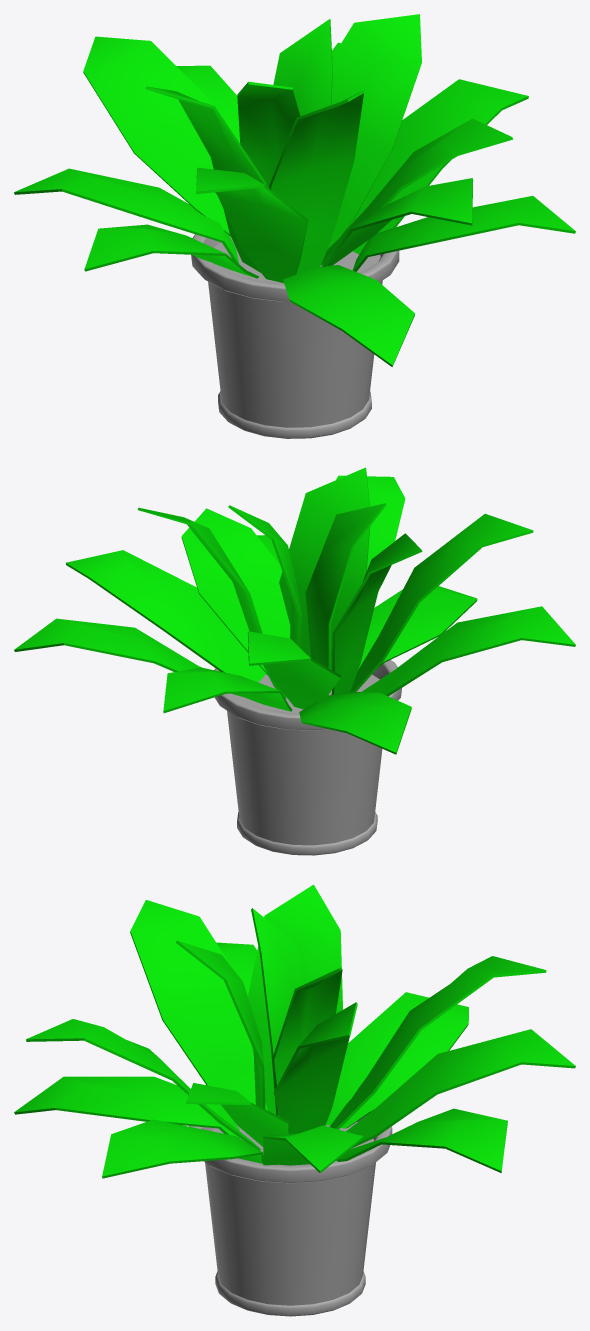
File: pot_plant_1.fbx
3 views of the same model, one above another, from view 1: azimuth 30°, elevation 25°; view 2: azimuth 150°, elevation 25°; view 3: azimuth 270°, elevation 25° (orthographic). The views are drawn at different scales.
Parts seen in each view (by area): view 1: pot_plant; view 2: pot_plant; view 3: pot_plant.
Part boxes in pixels (x1,y1,x2,y2): pot_plant: (14,14,575,438); pot_plant: (14,467,575,855); pot_plant: (14,884,575,1316).
Size of the model in its own units: 163 by 111 by 162.
